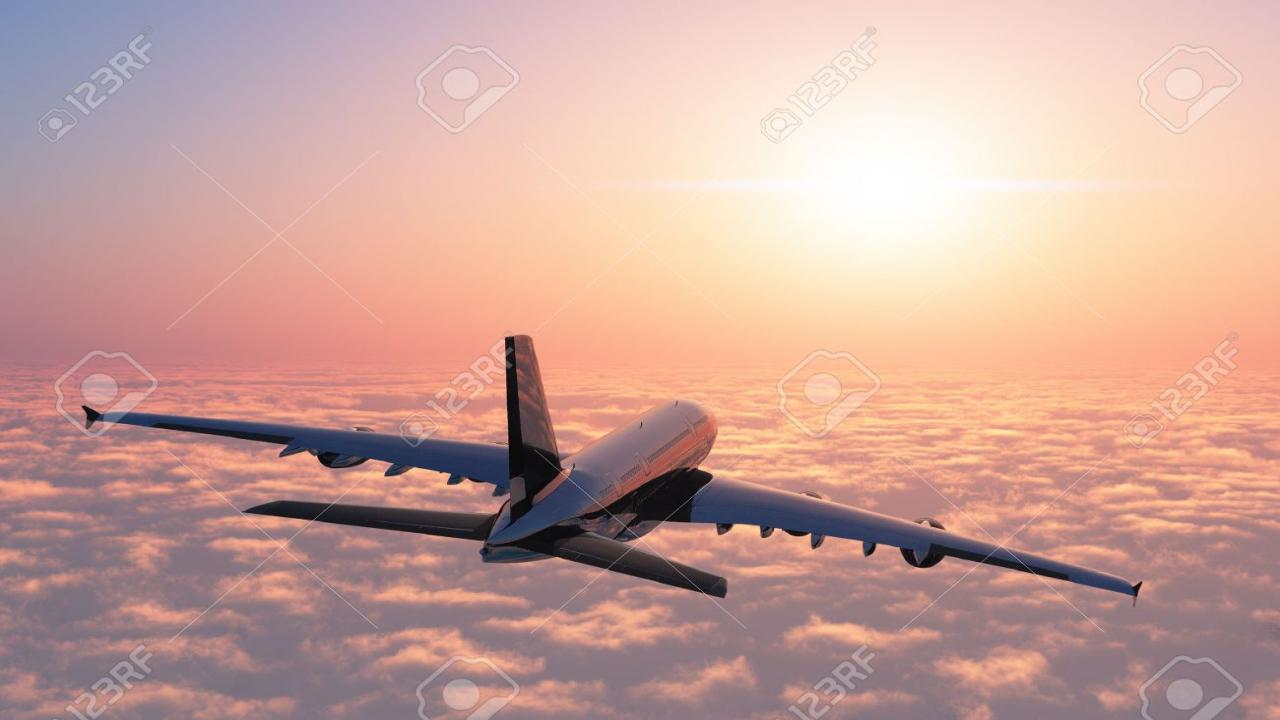Airplane: (75, 327, 1154, 627)
